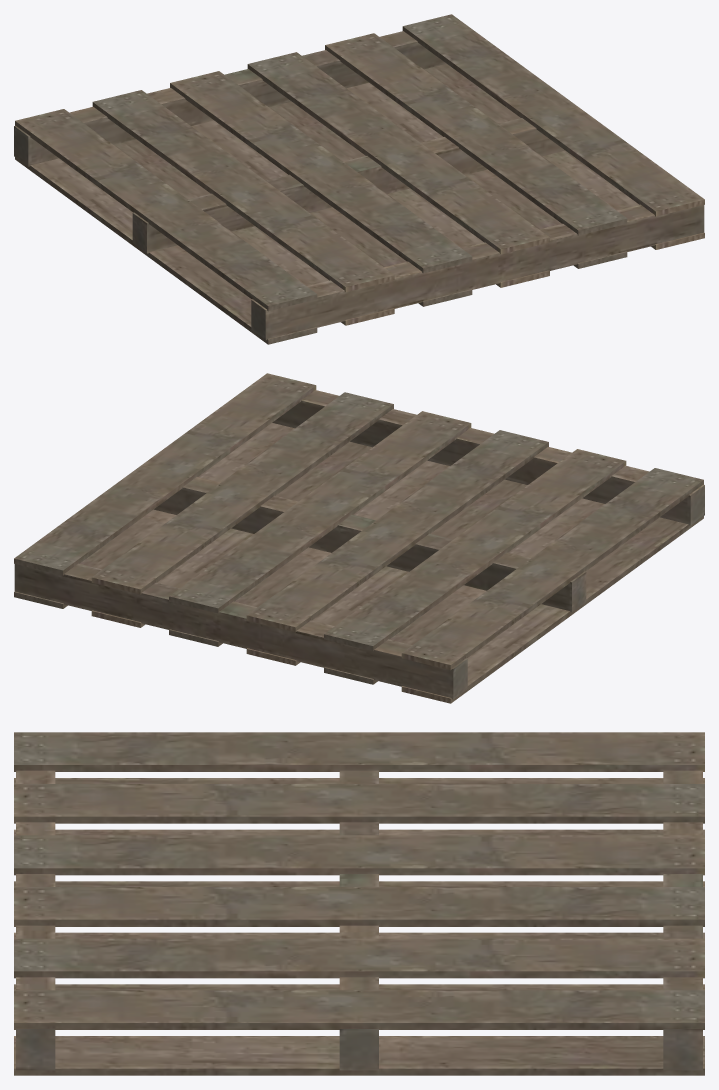
The model's file is pallet_stacks_c.glb.
The picture shows the model from 3 angles, top to bottom: view 1: azimuth 30°, elevation 25°; view 2: azimuth 150°, elevation 25°; view 3: azimuth 270°, elevation 25°; orthographic projection. The views are drawn at different scales.
Visible parts, largest first — view 1: pallet_stacks_c; view 2: pallet_stacks_c; view 3: pallet_stacks_c.
Boxes of the visible parts, x1,y1,x2,y2 form: pallet_stacks_c: [14, 14, 704, 344]; pallet_stacks_c: [14, 373, 704, 703]; pallet_stacks_c: [14, 732, 704, 1075].
Bounding box in the file's own units: 1.5 × 0.1263 × 1.5.
1 material, 1 textured.
